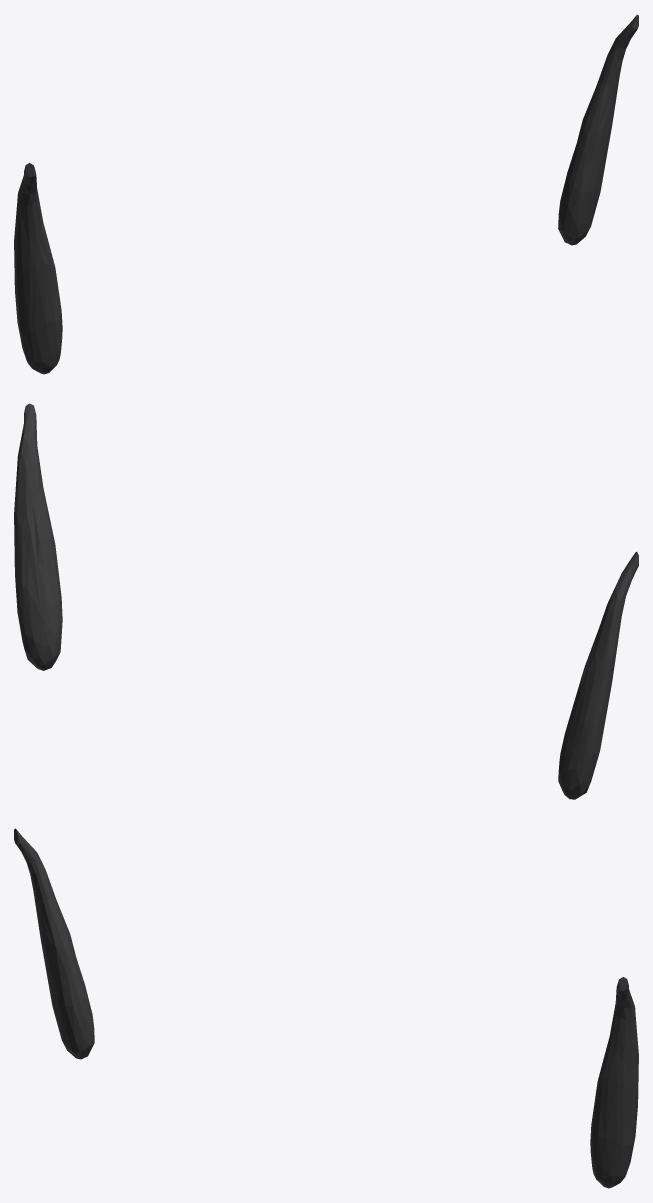
File: m_adductor_digit_V.glb
3 views of the same model, one above another, from view 1: azimuth 30°, elevation 25°; view 2: azimuth 150°, elevation 25°; view 3: azimuth 330°, elevation 25° (orthographic).
Visible parts, largest first — view 1: m_adductor_digit_V; view 2: m_adductor_digit_V; view 3: m_adductor_digit_V.
Part boxes in pixels (x1,y1,x2,y2): m_adductor_digit_V: (14,14,638,374); m_adductor_digit_V: (14,403,638,799); m_adductor_digit_V: (14,828,638,1188).
Size of the model in its own units: 0.00385 by 0.00143 by 0.000371.
Materials: 1 (1 with a texture image).
